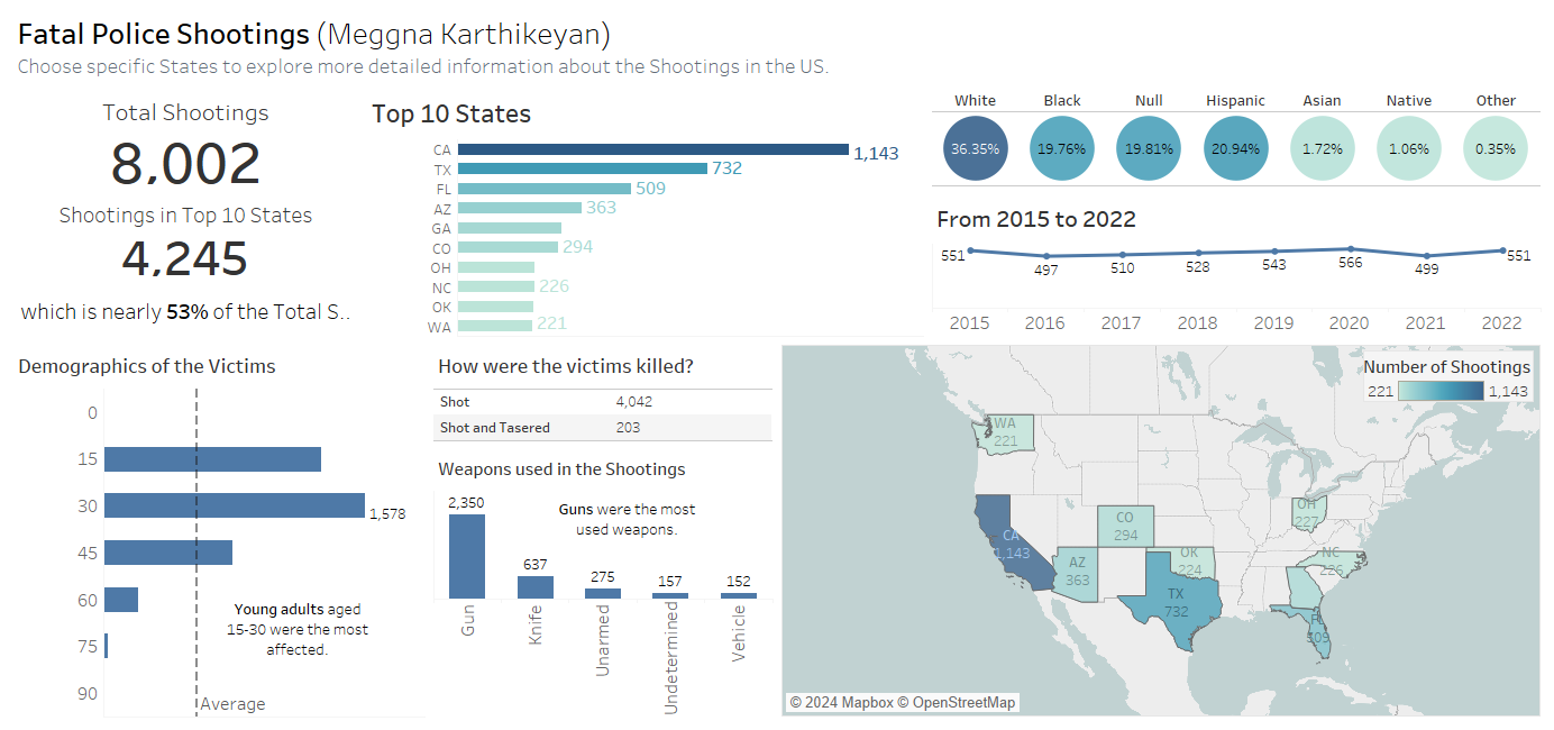

Layout of this report page (visuals, bound fields, positions):
{"tool":"tableau","page":{"name":"Dashboard 1","canvas":[1650,850],"ordinal":0},"visuals":[{"type":"title","box":[8,8,1634,94]},{"type":"worksheet","title":"Total Shootings","mark":"Automatic","box":[8,102,404,110.1]},{"type":"worksheet","title":"Top 10 States","mark":"Automatic","rows":["state"],"cols":["id"],"box":[412,102,573.3,286.6]},{"type":"worksheet","title":"Shootings by Race","mark":"Circle","cols":["race"],"box":[985.3,102,656.7,95]},{"type":"worksheet","title":"Shootings by Year","mark":"Line","rows":["Calculation_979532952108097537"],"cols":["date"],"box":[985.3,197,656.7,191.6]},{"type":"worksheet","title":"Shootings in Top 10 States","mark":"Automatic","box":[8,212.1,404,104.1]},{"type":"text","box":[8,316.2,404,72.4]},{"type":"worksheet","title":"Demographics of the Victims","mark":"Automatic","rows":["Age (bin)"],"cols":["id"],"box":[8,388.6,404,453.4]},{"type":"worksheet","title":"How were the victims killed?","mark":"Automatic","rows":["manner_of_death"],"box":[412,388.6,354,102]},{"type":"worksheet","title":"Number of Shootings per State","mark":"Multipolygon","box":[766,388.6,876,453.4]},{"type":"legend","title":"Number of Shootings per State","param":"[federated.1mt8p6719gd5ll12pvvch0hl3qo2].[usr:Calculation_979532952108097537:qk]","box":[1418.6,408,209.6,59.8]},{"type":"worksheet","title":"Weapons used in the Shootings","mark":"Automatic","rows":["id"],"box":[412,490.6,354,351.4]},{"type":"text","box":[519,572,185,66]},{"type":"text","box":[200,701,205,78]}]}

Visuals, with their boxes on the page's 1650x850 design canvas (x1, y1, x2, y2). These are canvas units, not pixel positions in the 1554x730 screenshot, which may show the page scaled, cropped or inside an application window:
title: detection(8, 8, 1642, 102)
"Total Shootings" worksheet: detection(8, 102, 412, 212)
"Top 10 States" worksheet: detection(412, 102, 985, 389)
"Shootings by Race" worksheet (Circle marks): detection(985, 102, 1642, 197)
"Shootings by Year" worksheet (Line marks): detection(985, 197, 1642, 389)
"Shootings in Top 10 States" worksheet: detection(8, 212, 412, 316)
text: detection(8, 316, 412, 389)
"Demographics of the Victims" worksheet: detection(8, 389, 412, 842)
"How were the victims killed?" worksheet: detection(412, 389, 766, 491)
"Number of Shootings per State" worksheet (Multipolygon marks): detection(766, 389, 1642, 842)
"Number of Shootings per State" legend: detection(1419, 408, 1628, 468)
"Weapons used in the Shootings" worksheet: detection(412, 491, 766, 842)
text: detection(519, 572, 704, 638)
text: detection(200, 701, 405, 779)
